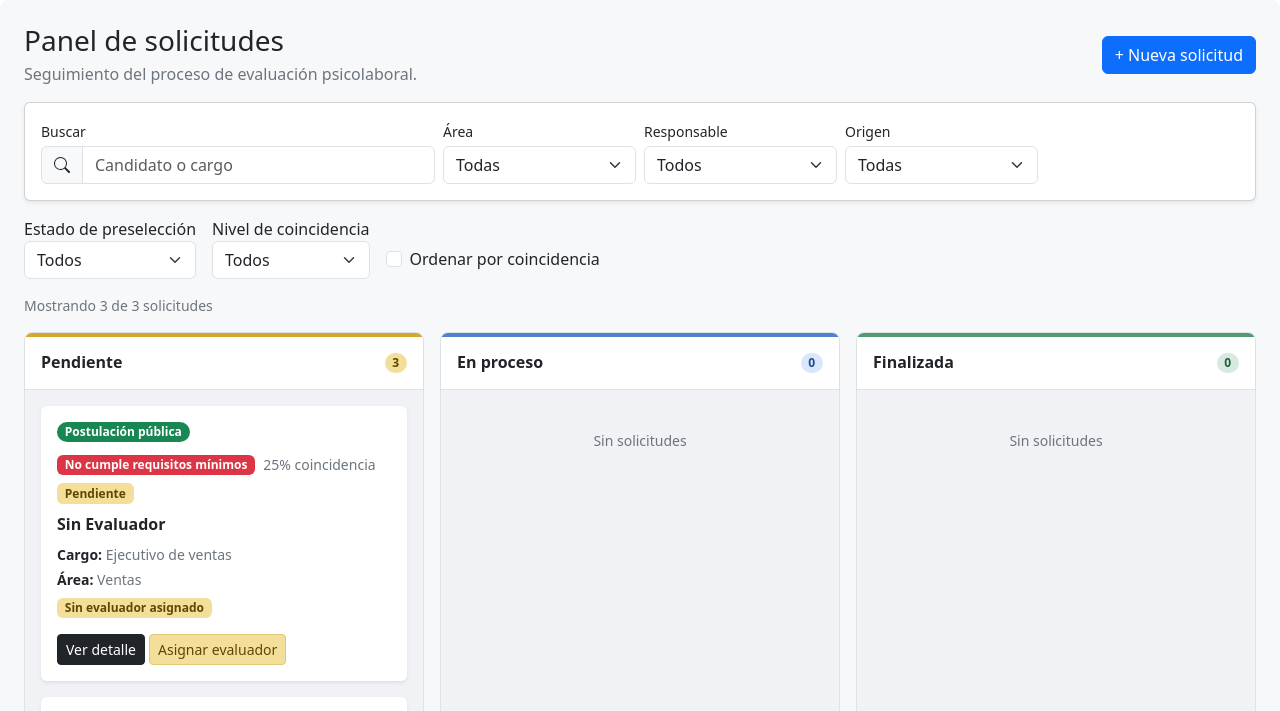
Panel (Kanban) › muestra los tres resultados, ordena por coincidencia y permite filtrar sin ocultar incumplimientos por defecto
This screenshot has width=1280, height=711.
Expected: the heading "Panel de solicitudes" is shown, [24,21,284,59]
Expected: the text "No cumple requisitos mínimos" is shown, [57,455,255,475]
Step 1. Click the checkbox labelled "Ordenar por coincidencia" → (394, 259), box [386,251,402,267]
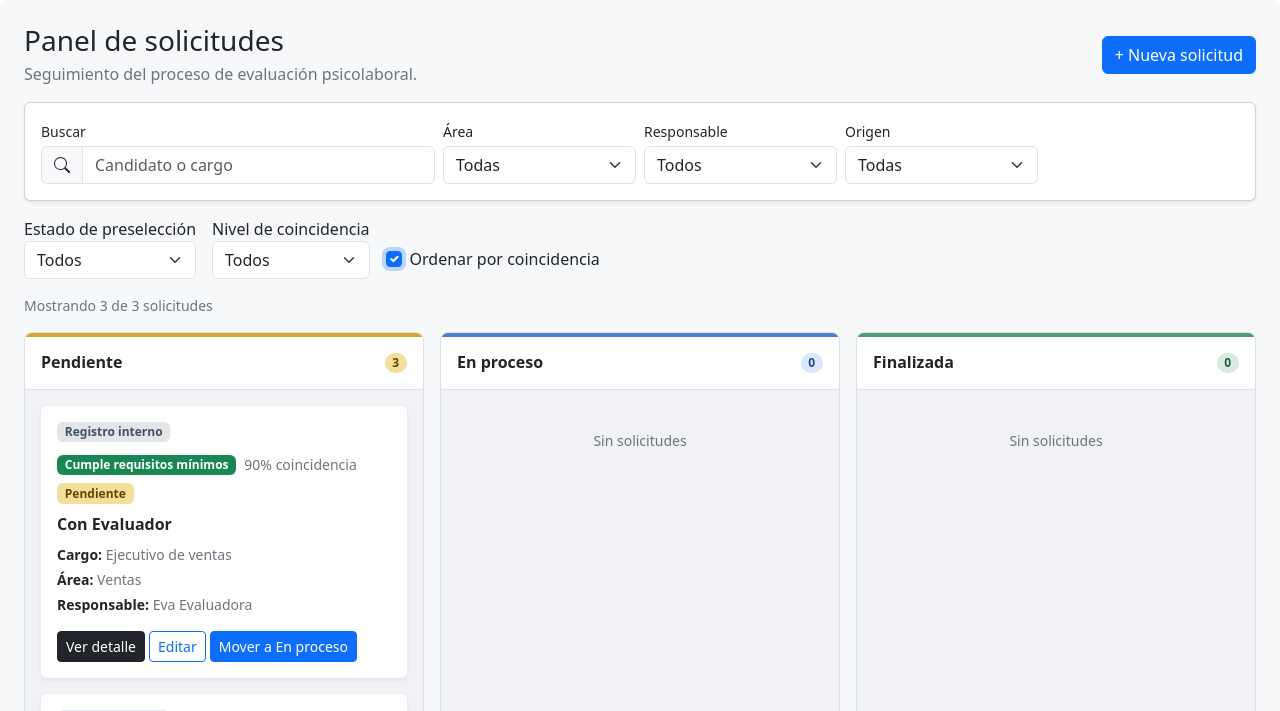
Step 2. Select "0–79 %" in the dropdown labelled "Nivel de coincidencia" → (291, 260), box [212,241,370,279]
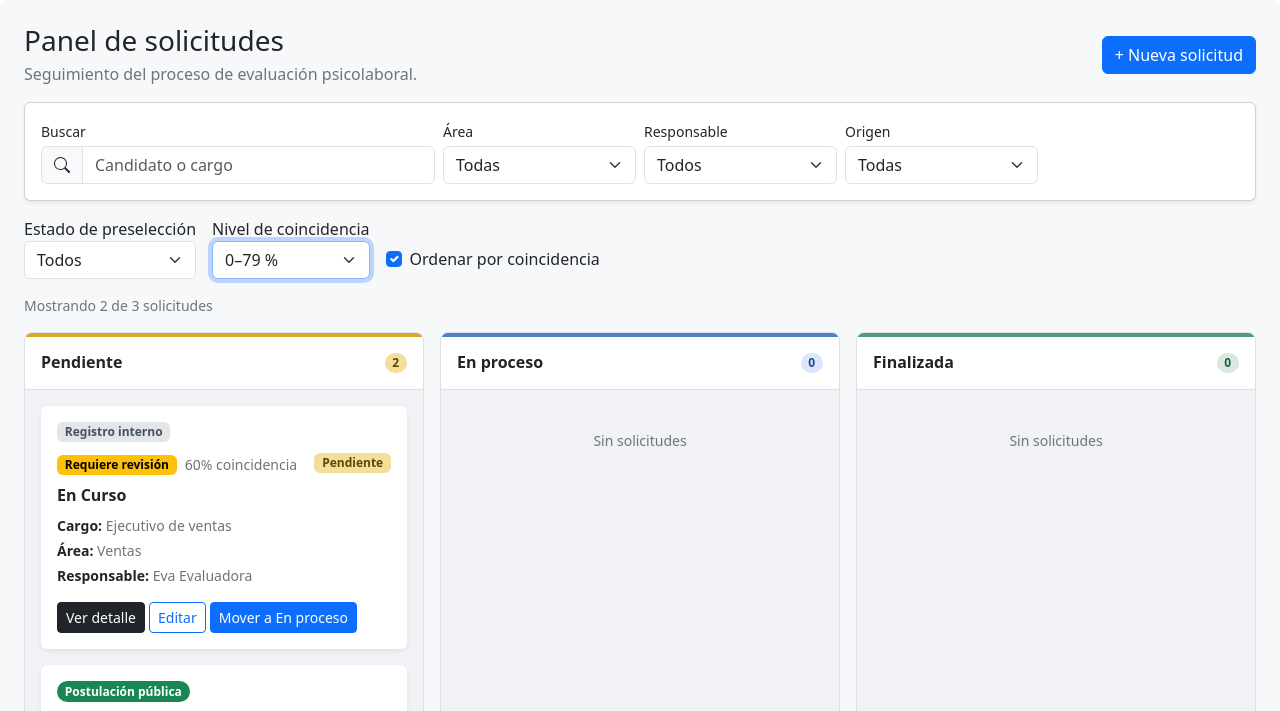
Step 3. Select "No cumple" in the dropdown labelled "Estado de preselección" → (110, 260), box [24,241,196,279]
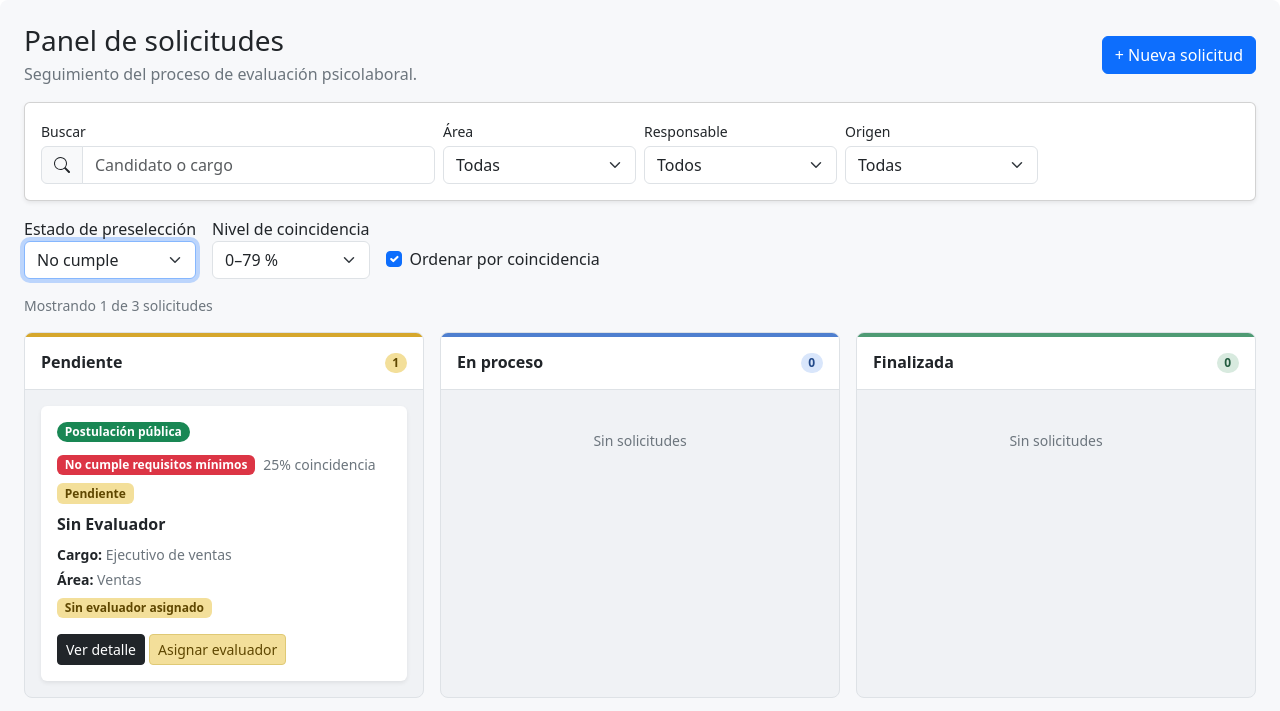
Expected: the text "No cumple requisitos mínimos" is shown, [57,455,255,475]
Expected: the text "Requiere revisión" is gone
